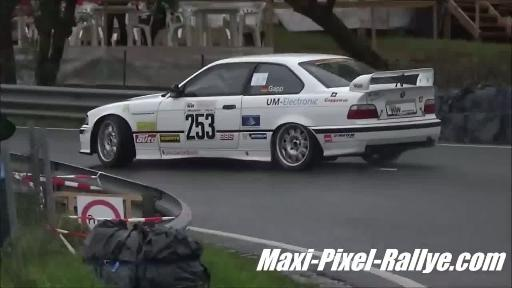CAR: (73, 34, 458, 180)
